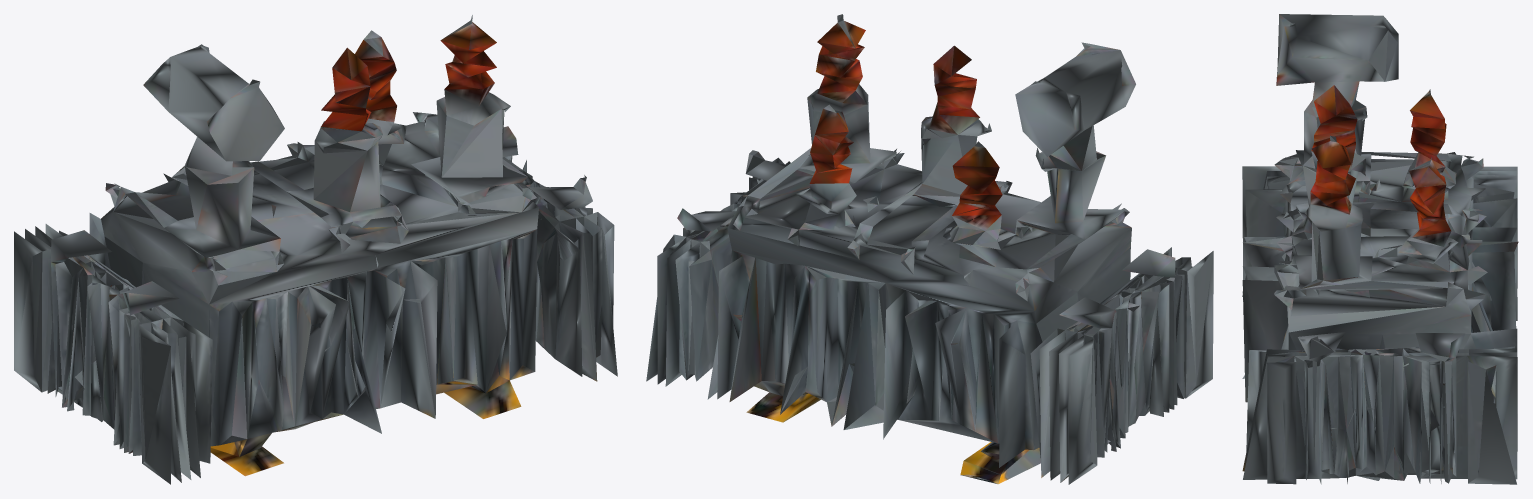
Rendered from fv_transformer.glb.
The picture shows the model from 3 angles, left to right: view 1: azimuth 30°, elevation 25°; view 2: azimuth 150°, elevation 25°; view 3: azimuth 270°, elevation 25°; orthographic projection. The views are drawn at different scales.
Visible parts, largest first — view 1: fv_transformer; view 2: fv_transformer; view 3: fv_transformer.
Boxes of the visible parts, <box> form: fv_transformer: <box>14,15,617,484</box>; fv_transformer: <box>646,14,1213,484</box>; fv_transformer: <box>1242,14,1518,484</box>.
Size of the model in its own units: 2.61 by 2.07 by 1.52.
1 material, 1 textured.
